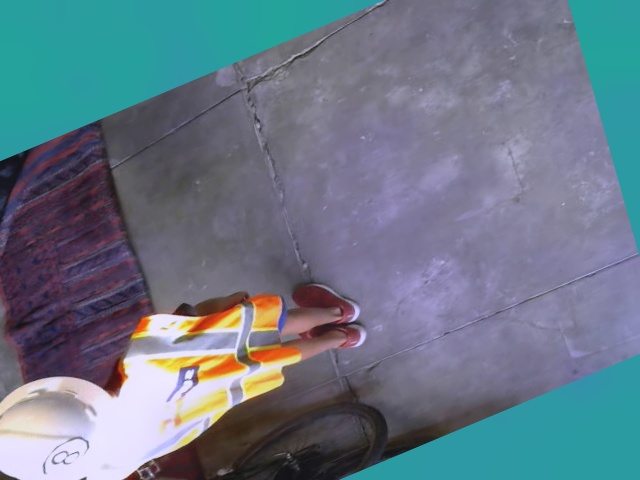eight: (36, 432, 93, 479)
